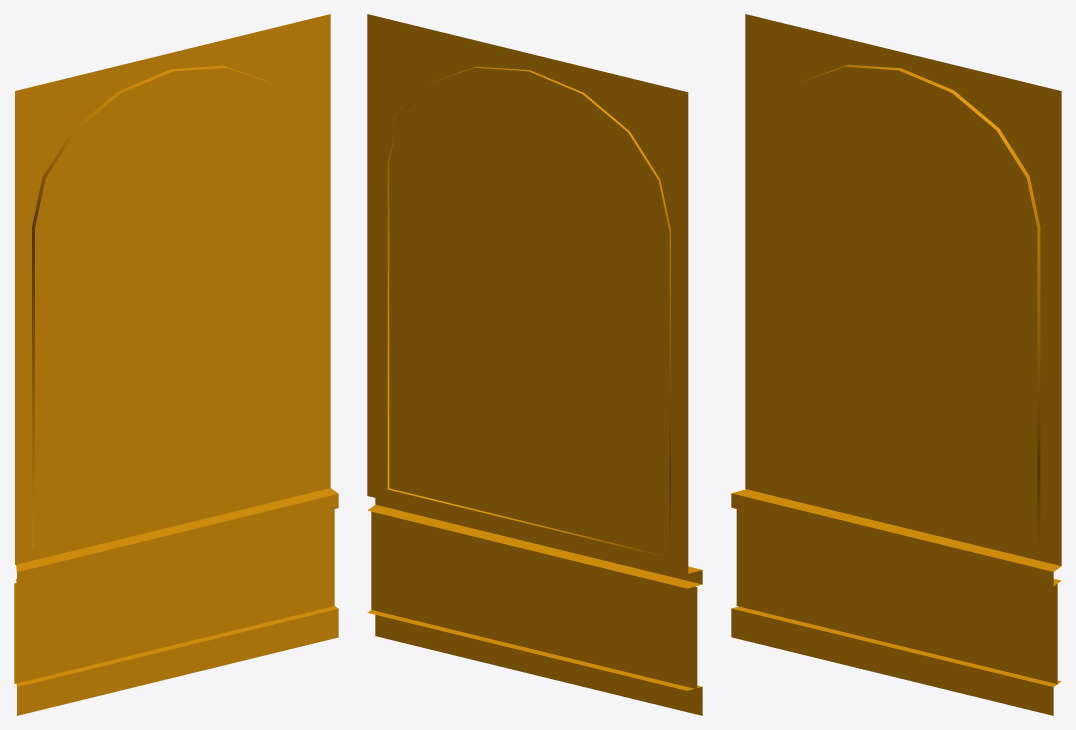
Rendered from SM_cafe_wall_re.fbx.
3 renders of one model, left to right at view 1: azimuth 30°, elevation 25°; view 2: azimuth 150°, elevation 25°; view 3: azimuth 330°, elevation 25°, orthographic.
Visible parts, largest first — view 1: main_wall_low; view 2: main_wall_low; view 3: main_wall_low.
Part boxes in pixels (bbox=[...]): main_wall_low: bbox=[14, 14, 338, 715]; main_wall_low: bbox=[367, 14, 702, 715]; main_wall_low: bbox=[731, 14, 1061, 715].
Size of the model in its own units: 235 by 430 by 12.
